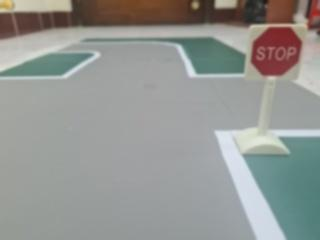stop: (246, 21, 307, 75)
